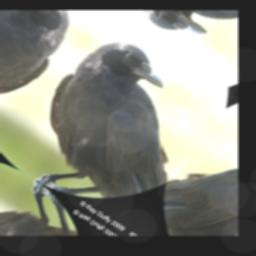Crow: (0, 25, 228, 234)
